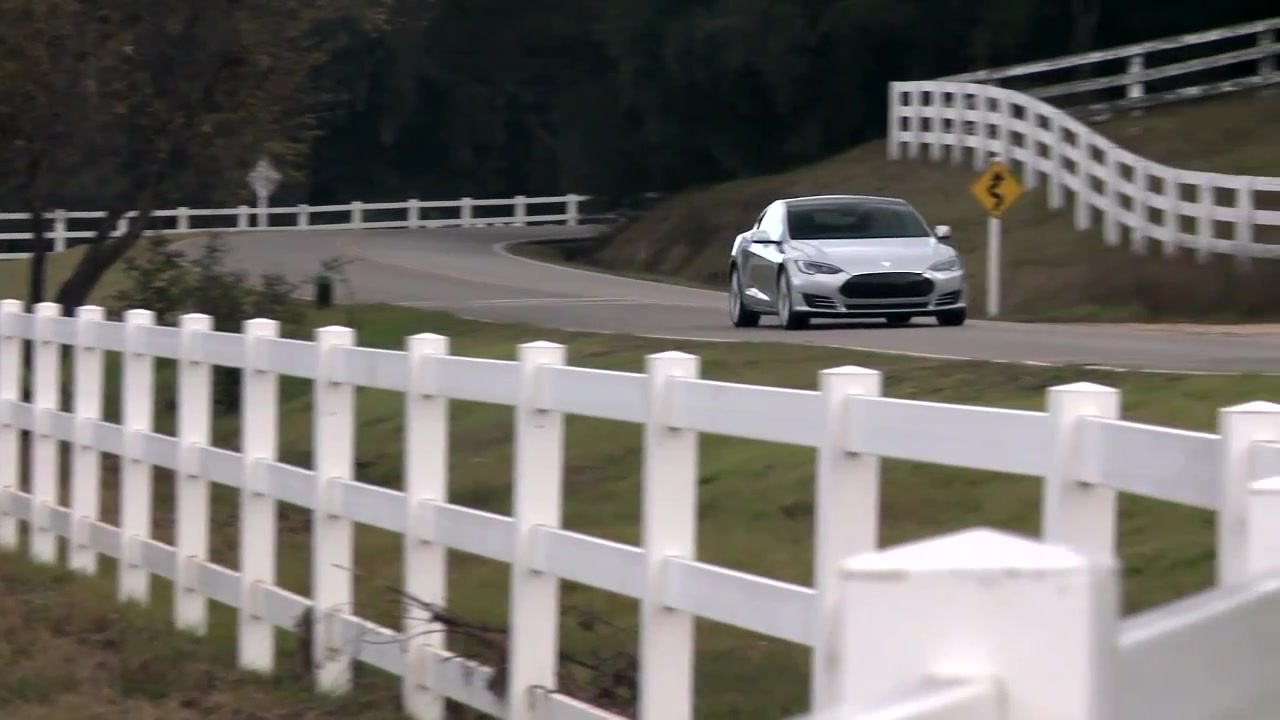car: (721, 196, 974, 329)
